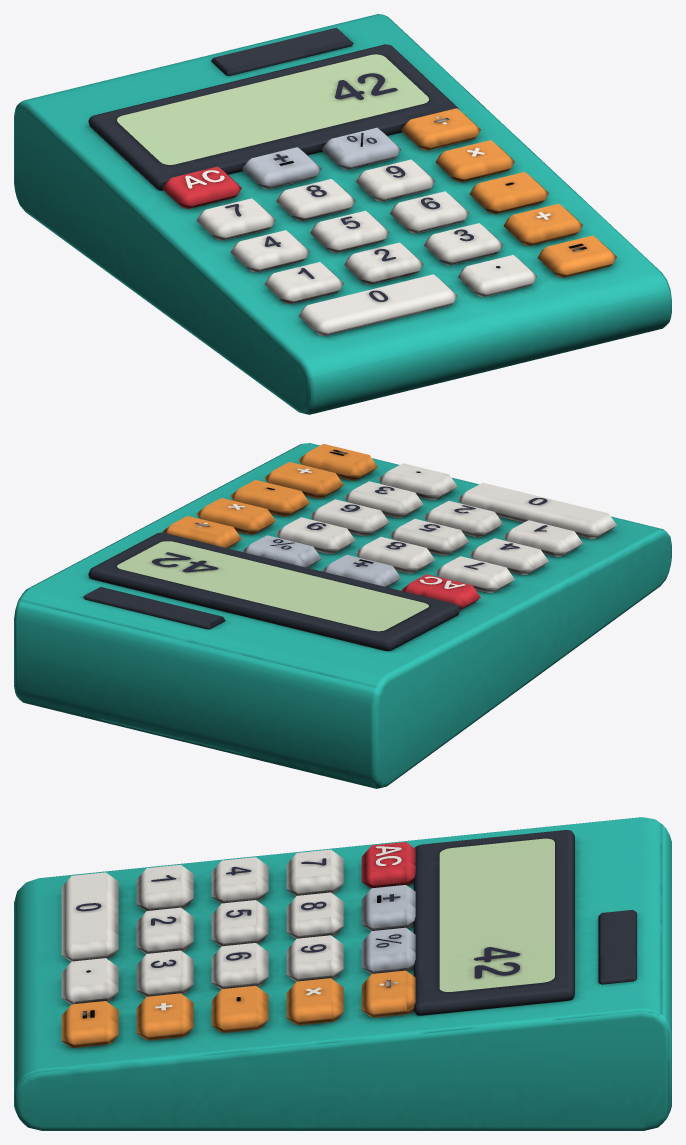
Rendered from calculator.glb.
3 renders of one model, top to bottom at view 1: azimuth 30°, elevation 25°; view 2: azimuth 150°, elevation 25°; view 3: azimuth 270°, elevation 25°, orthographic. The views are drawn at different scales.
Visible parts, largest first — view 1: calculator; view 2: calculator; view 3: calculator.
Part boxes in pixels (x1=…): calculator: x1=14, y1=14, x2=671, y2=414; calculator: x1=14, y1=443, x2=671, y2=788; calculator: x1=14, y1=817, x2=671, y2=1130.
Bounding box in the file's own units: 0.12 × 0.0363 × 0.17.
9 materials, 9 textured.
